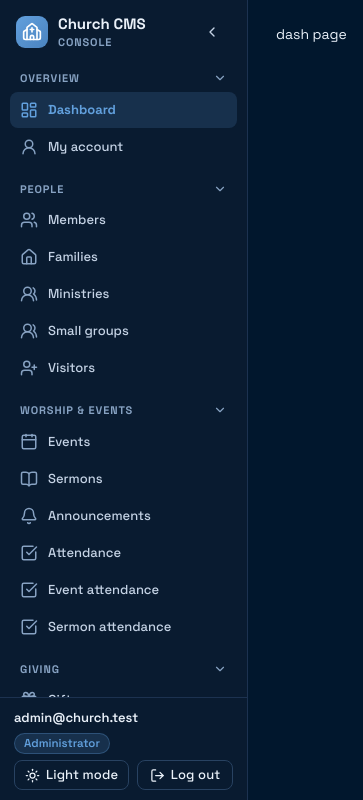
the data-driven shell › collapses a group and remembers it
Step 1. Click the button "People" → (124, 187), box [10,172,237,201]
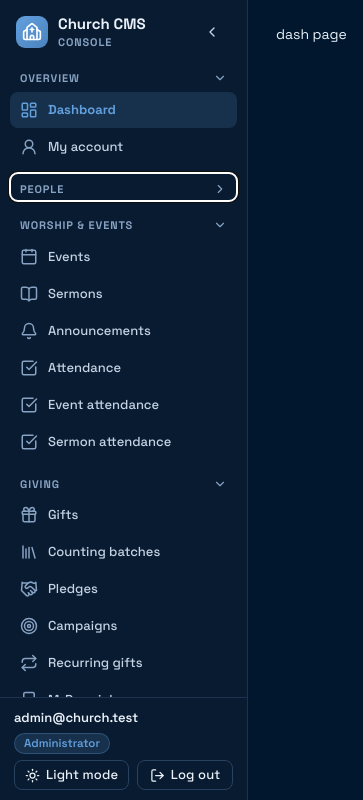
Check: the link "Members" is gone
